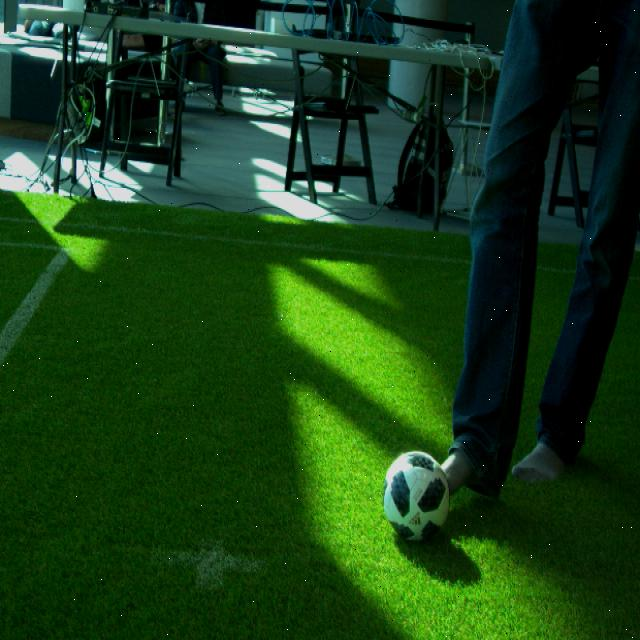ball: (381, 449, 451, 544)
